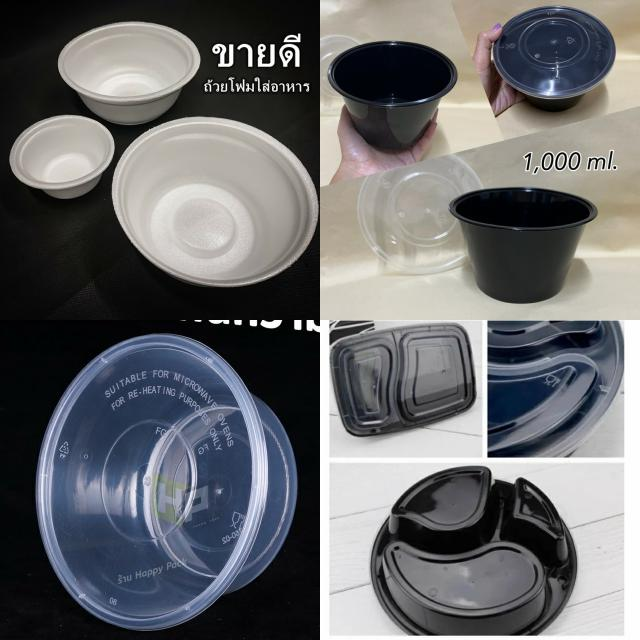Single-Use-Plastic: (36, 334, 298, 630), (112, 118, 319, 287), (370, 466, 576, 635), (488, 321, 624, 457), (449, 188, 598, 302), (330, 324, 476, 436), (58, 21, 200, 125), (358, 155, 482, 273), (328, 41, 458, 149), (494, 6, 615, 111), (10, 115, 115, 199)
